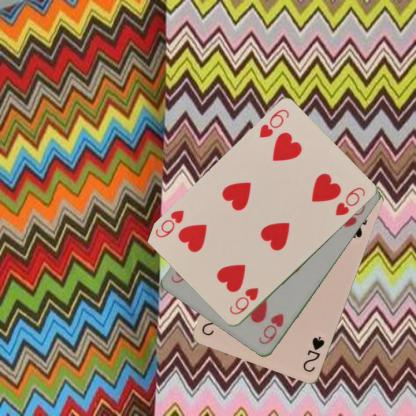2s: (300, 334, 326, 374)
6h: (226, 284, 260, 316), (257, 107, 290, 139), (256, 311, 286, 346)
